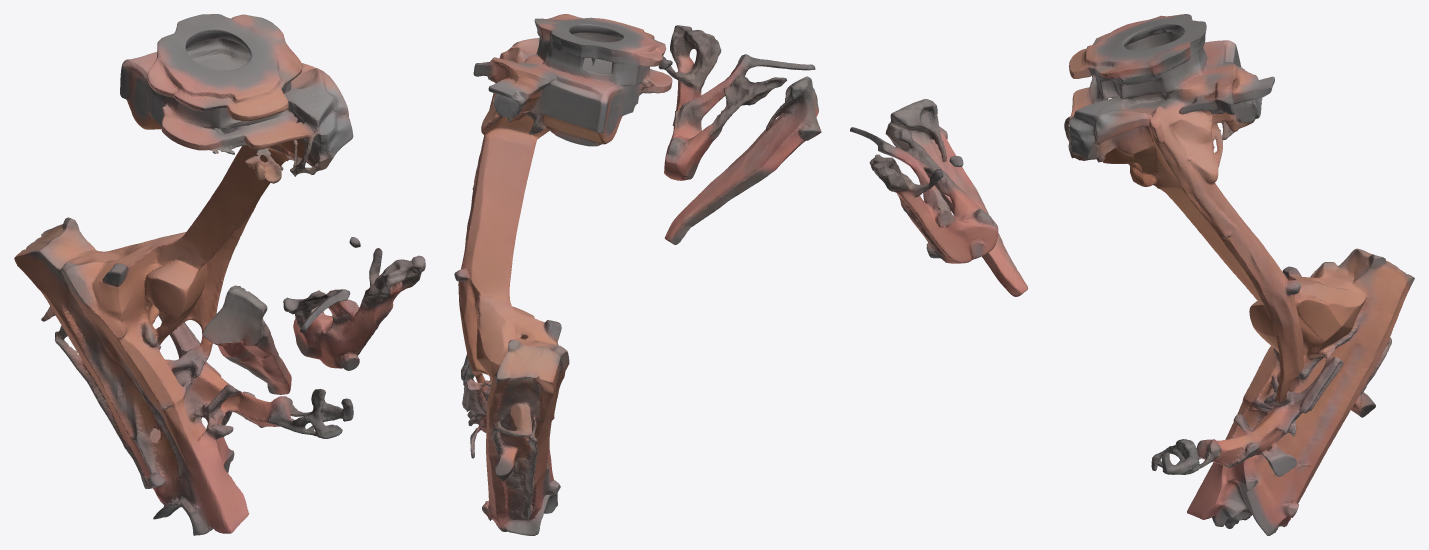
Rendered from robot-v1.glb.
3 renders of one model, left to right at view 1: azimuth 30°, elevation 25°; view 2: azimuth 150°, elevation 25°; view 3: azimuth 270°, elevation 25°, orthographic. The views are drawn at different scales.
Parts seen in each view (by area): view 1: geometry_0; view 2: geometry_0; view 3: geometry_0.
Part boxes in pixels (<box>): geometry_0: <box>14,14,425,535</box>; geometry_0: <box>454,14,821,535</box>; geometry_0: <box>850,14,1414,535</box>.
Size of the model in its own units: 2.22 by 4.08 by 4.28.
